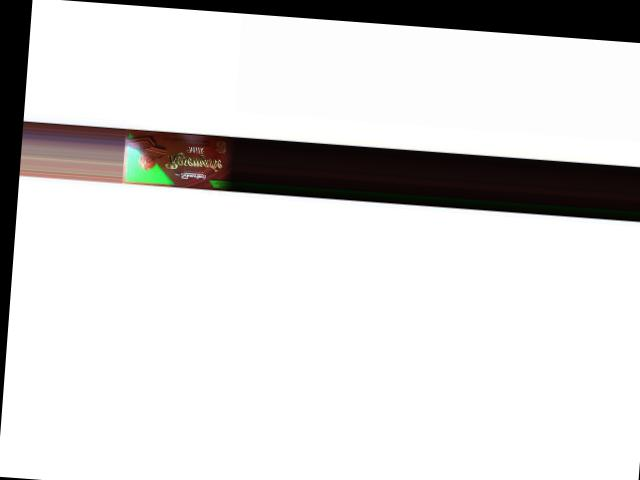chocolate: (123, 129, 237, 189)
